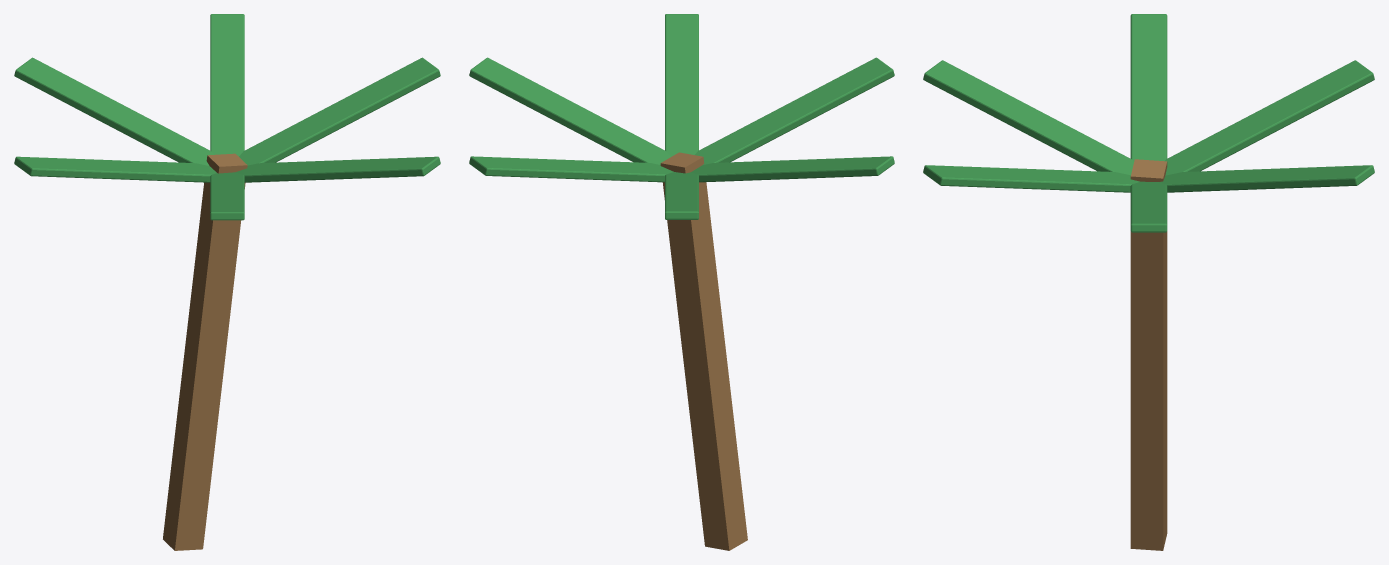
The model's file is Plane_Palm.fbx.
3 views of the same model, side by side, from view 1: azimuth 30°, elevation 25°; view 2: azimuth 150°, elevation 25°; view 3: azimuth 270°, elevation 25° (orthographic). The views are drawn at different scales.
Parts seen in each view (by area): view 1: Palm; view 2: Palm; view 3: Palm.
Boxes of the visible parts, x1=… form: Palm: x1=14, y1=14, x2=440, y2=550; Palm: x1=469, y1=14, x2=894, y2=550; Palm: x1=923, y1=14, x2=1374, y2=550.
Size of the model in its own units: 2.76 by 2.72 by 2.48.
